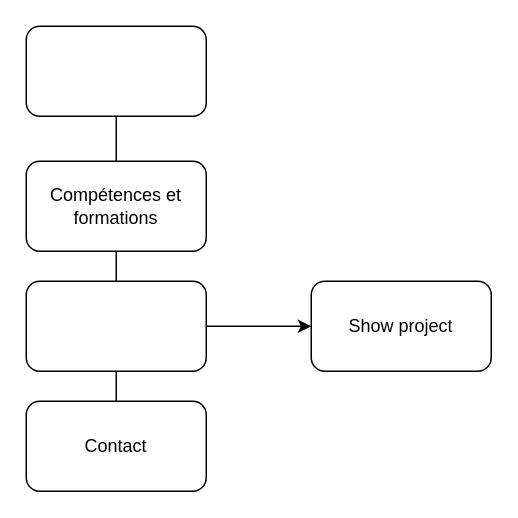
Image size: 518x518. Some labels were removed from this diagram. The centre of each missing label's shape, as x and y in pixels:
Home: (115,70)
Project: (115,325)
